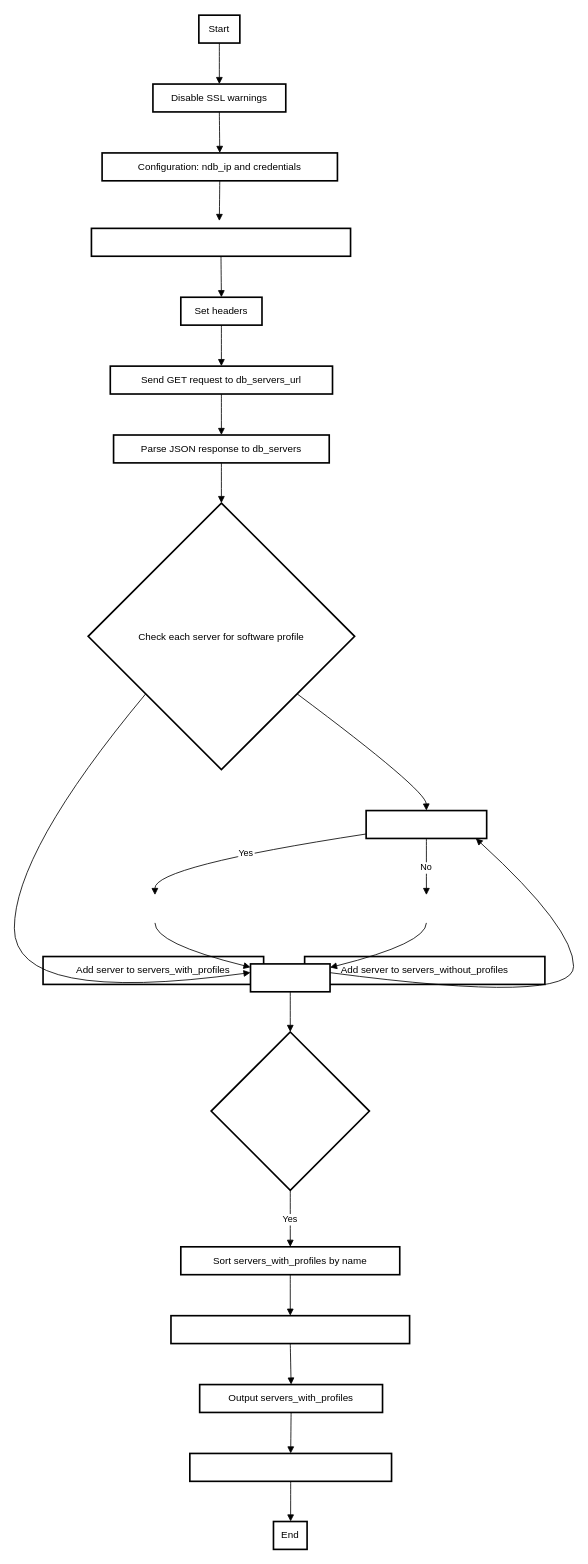
The diagram is 588 pixels wide and 1564 high, and some of its shapes have lost their labels. Here are the shapes that lost their labels. From the top down, the centre of each, then its label:
At (220,242): "Set API URLs: base_url and db_servers_url".
At (426,824): "Server has profile?".
At (289,977): "Next server".
At (290,1111): "All servers checked?".
At (290,1329): "Sort servers_without_profiles by name".
At (290,1467): "Output servers_without_profiles".
